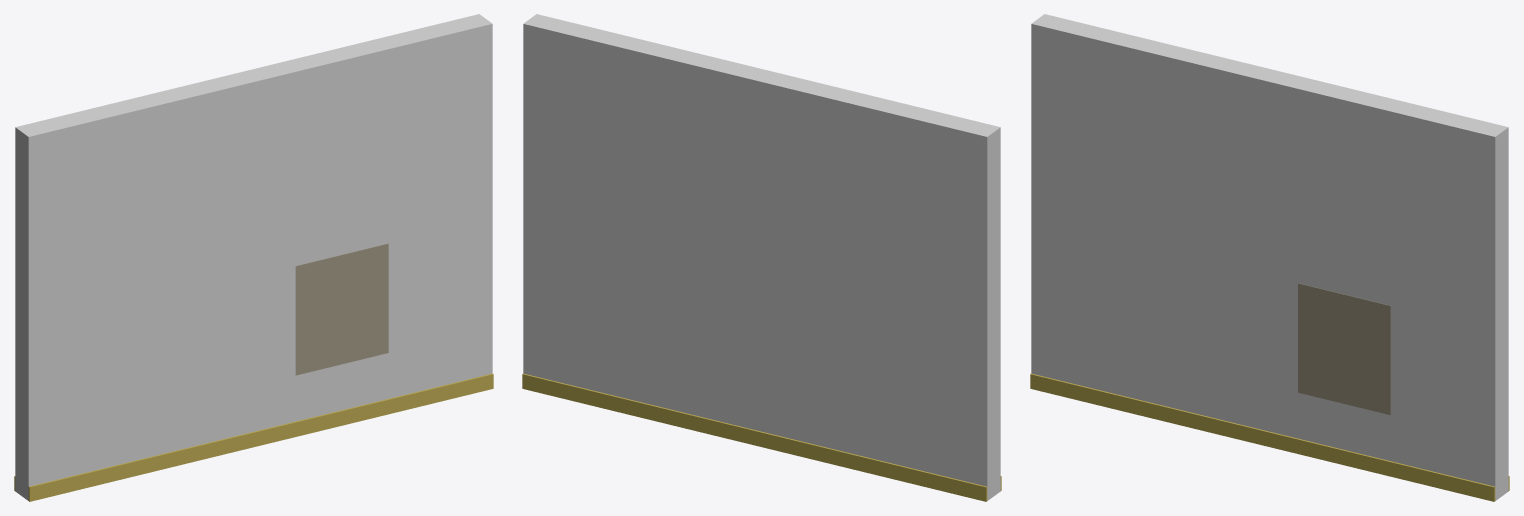
Rendered from MOD_32_Wall_Damaged.fbx.
3 views of the same model, side by side, from view 1: azimuth 30°, elevation 25°; view 2: azimuth 150°, elevation 25°; view 3: azimuth 330°, elevation 25° (orthographic).
Visible parts, largest first — view 1: MOD_32_Wall_Damaged; view 2: MOD_32_Wall_Damaged; view 3: MOD_32_Wall_Damaged.
Part boxes in pixels (<box>): MOD_32_Wall_Damaged: <box>14,14,493,501</box>; MOD_32_Wall_Damaged: <box>522,14,1001,501</box>; MOD_32_Wall_Damaged: <box>1030,14,1509,501</box>.
Bounding box in the file's own units: 4 × 3 × 0.23.
